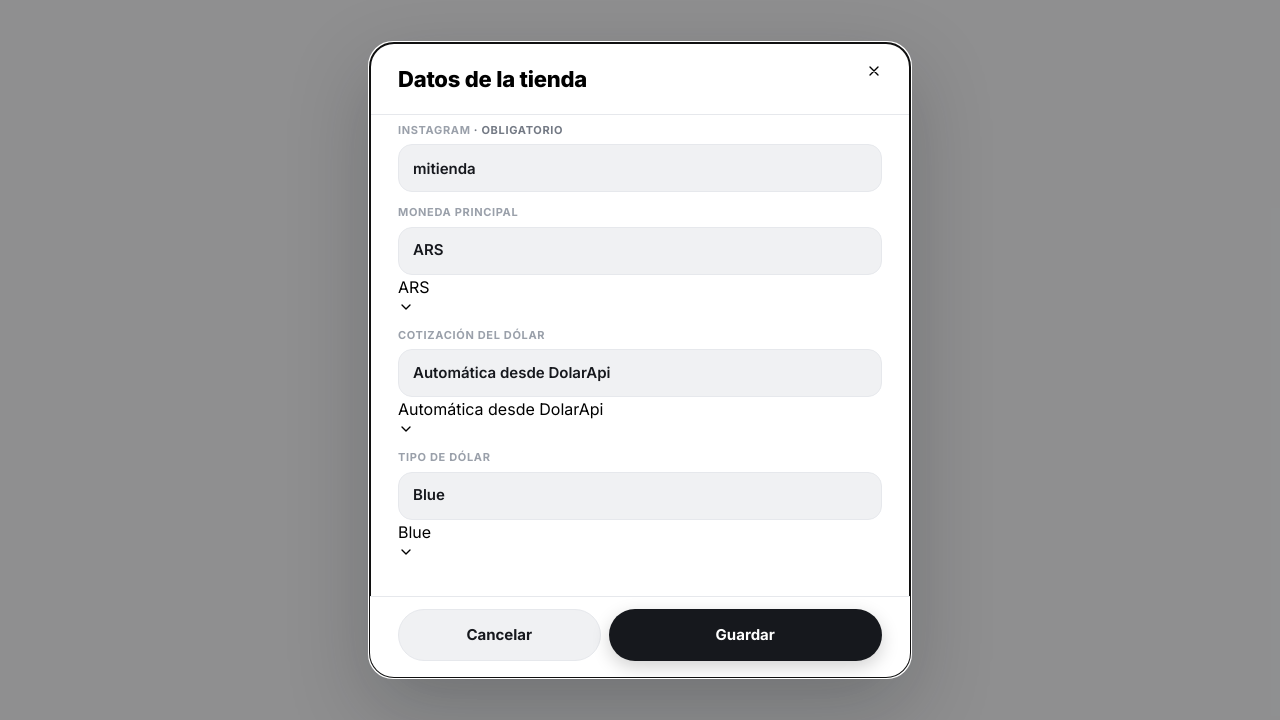
Test case: store manual quote › blocks compra 1400 and venta 1300 on desktop
(page scrolled)
Expected: the heading "Datos de la tienda" is shown, [398,66,587,92]
Click the dropdown with test id "store-exchange-mode". click: (501, 417)
box: [398,397,603,437]
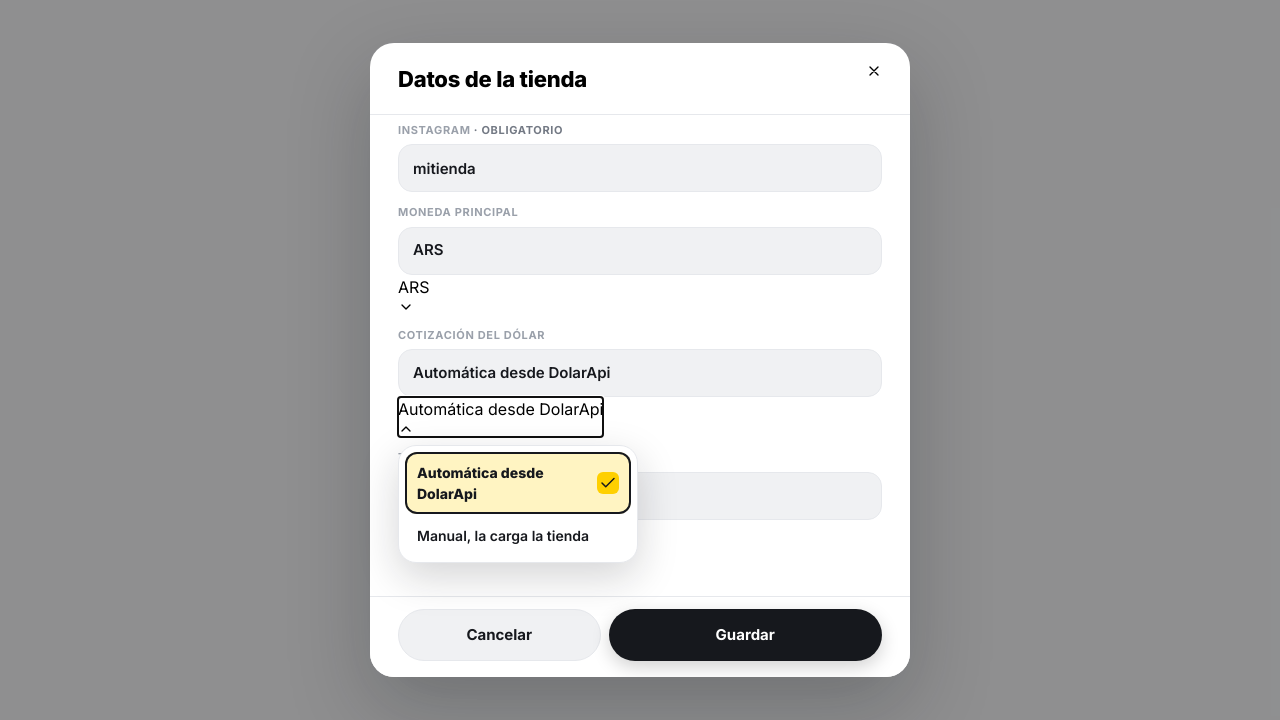
Click the option "Manual, la carga la tienda". click: (503, 535)
box: [417,527,589,544]
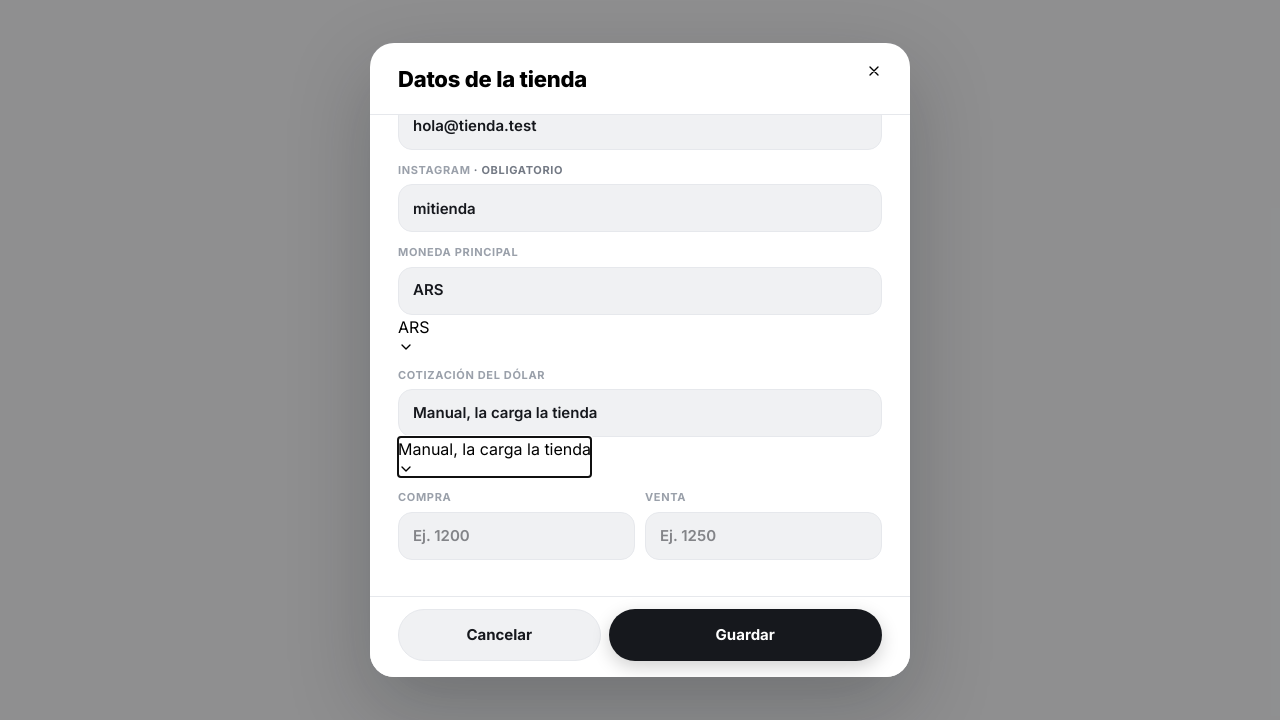
Type "1400" into the field with test id "store-manual-buy". click: (516, 536)
box: [398,512,635,560]
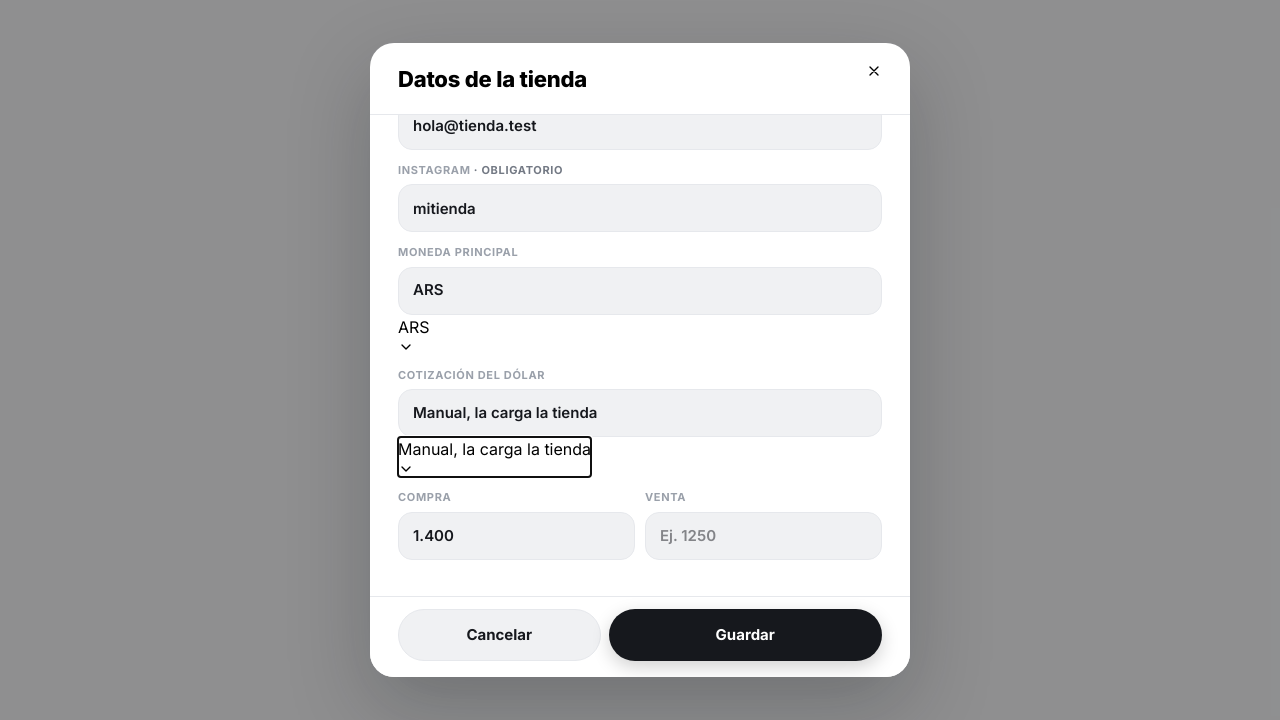
Type "1300" into the field with test id "store-manual-sell". click: (764, 536)
box: [645,512,882,560]
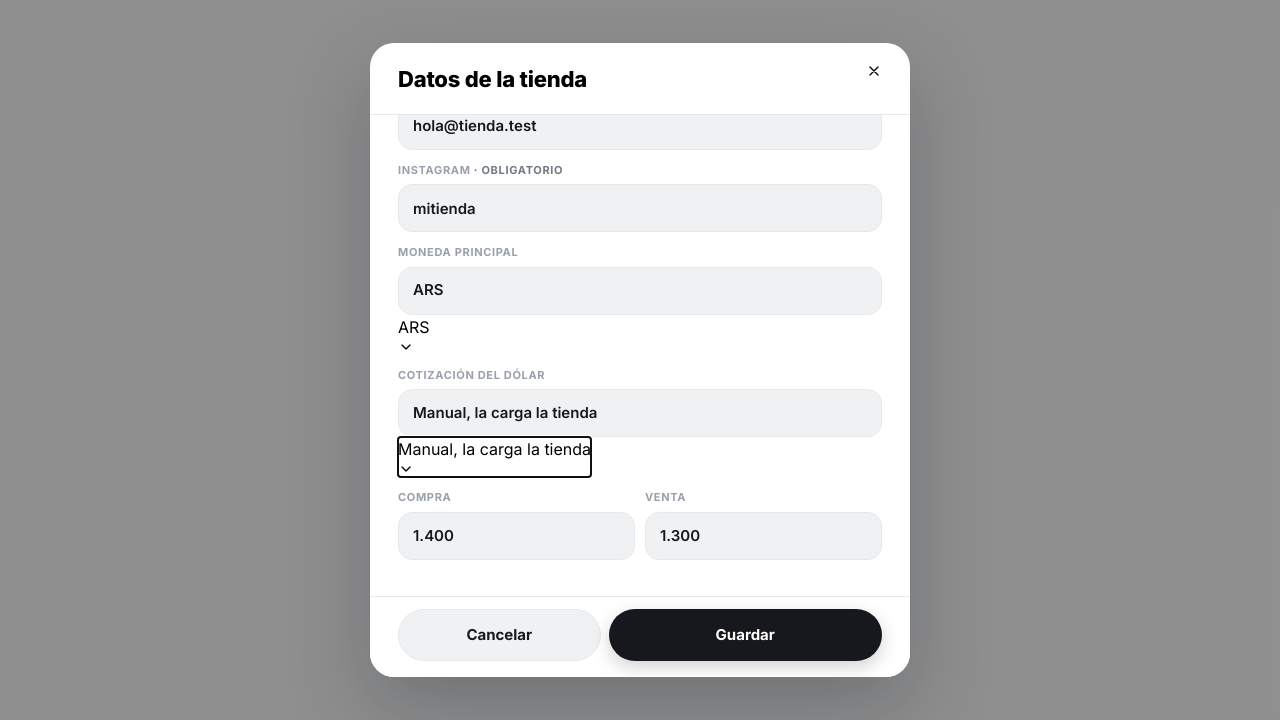
Click the button "Guardar". click: (745, 635)
box: [608,609,882,661]
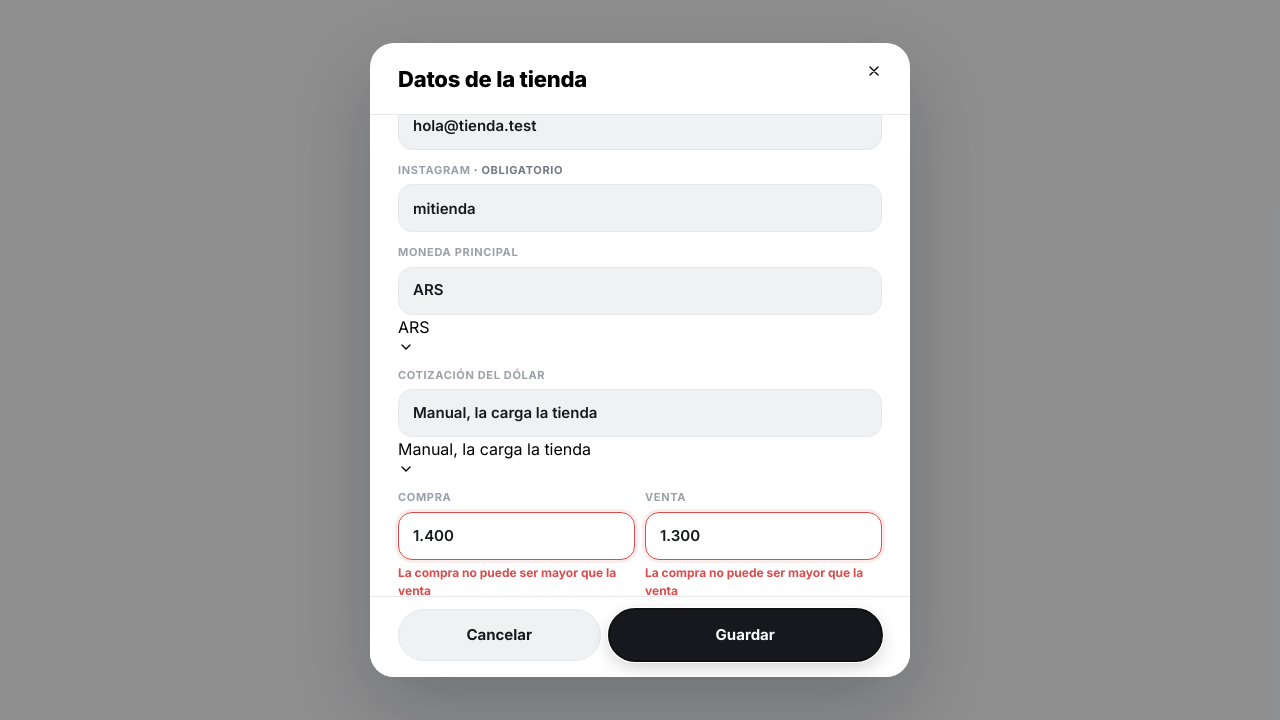
Expected: the dialog "Datos de la tienda" is shown, [370,43,910,677]
Expected: the text "La compra no puede ser mayor que la venta" is shown 2 times, [398,564,635,596]; [645,564,882,596]
